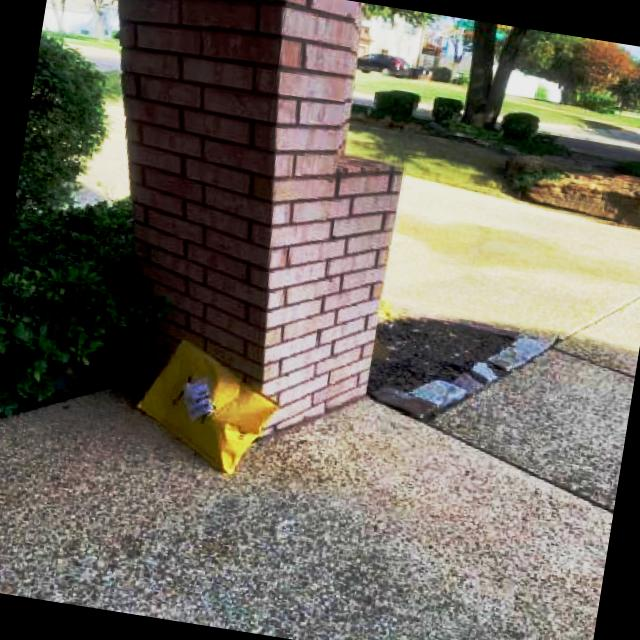Box: (129, 332, 289, 484)
